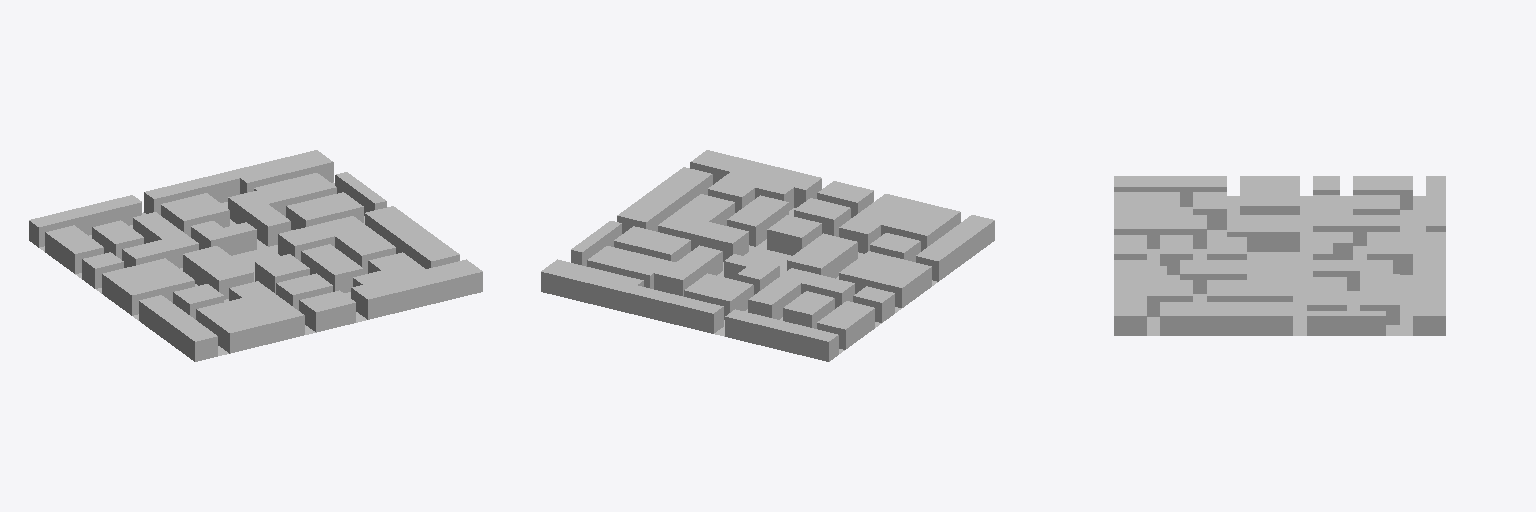
Rendered from drawMesh.obj.
3 views of the same model, side by side, from view 1: azimuth 30°, elevation 25°; view 2: azimuth 150°, elevation 25°; view 3: azimuth 270°, elevation 25° (orthographic).
Visible parts, largest first — view 1: pPlane9; view 2: pPlane9; view 3: pPlane9.
Part boxes in pixels (bbox=[...]): pPlane9: bbox=[29, 150, 482, 361]; pPlane9: bbox=[541, 150, 994, 361]; pPlane9: bbox=[1114, 176, 1445, 335].
Size of the model in its own units: 200 by 13.45 by 200.